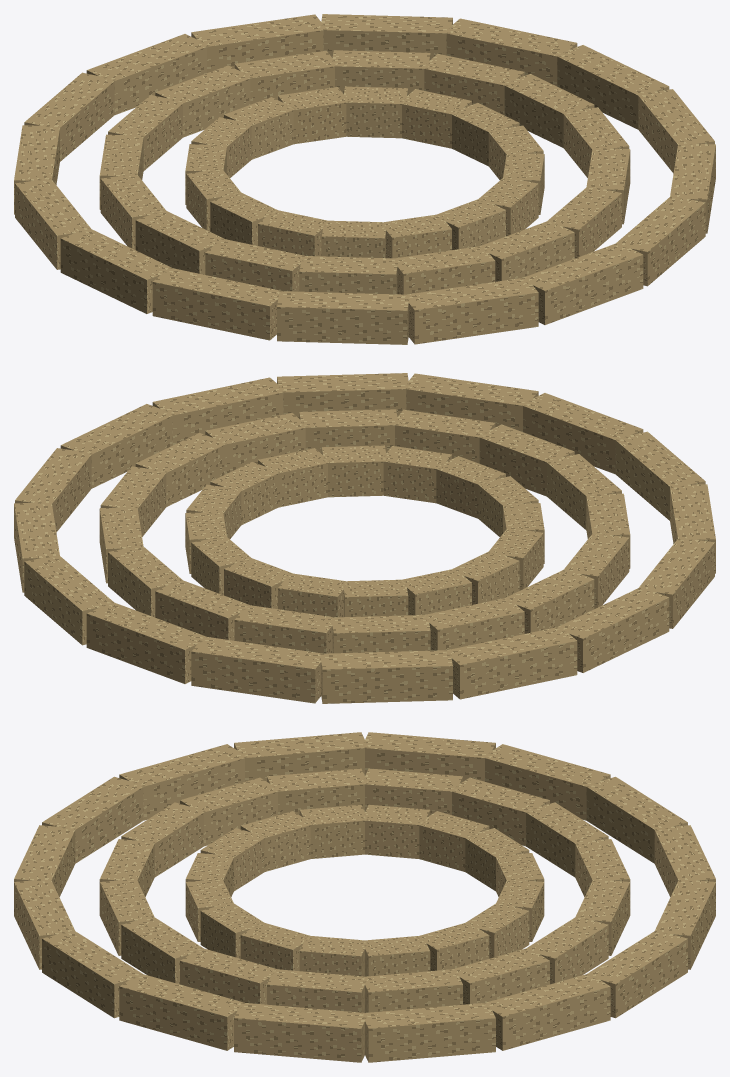
File: mooring_rope_coil.gltf
The picture shows the model from 3 angles, top to bottom: view 1: azimuth 30°, elevation 25°; view 2: azimuth 150°, elevation 25°; view 3: azimuth 270°, elevation 25°; orthographic projection.
Visible parts, largest first — view 1: rope (×48); view 2: rope (×48); view 3: rope (×48).
Boxes of the visible parts, x1,y1,x2,y2 form: rope (×48): (14,14,715,344); rope (×48): (14,373,715,703); rope (×48): (14,732,715,1062).
Size of the model in its own units: 0.8179 by 0.0437 by 0.8179.
1 material, 1 textured.
